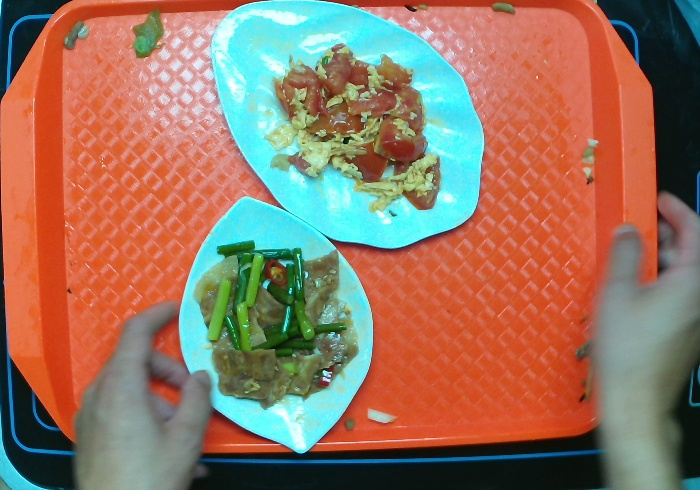RJxy-Bai_Ye_Pan: (206, 1, 483, 251)
RJxy-Da_Du_Pan: (178, 194, 380, 456)
